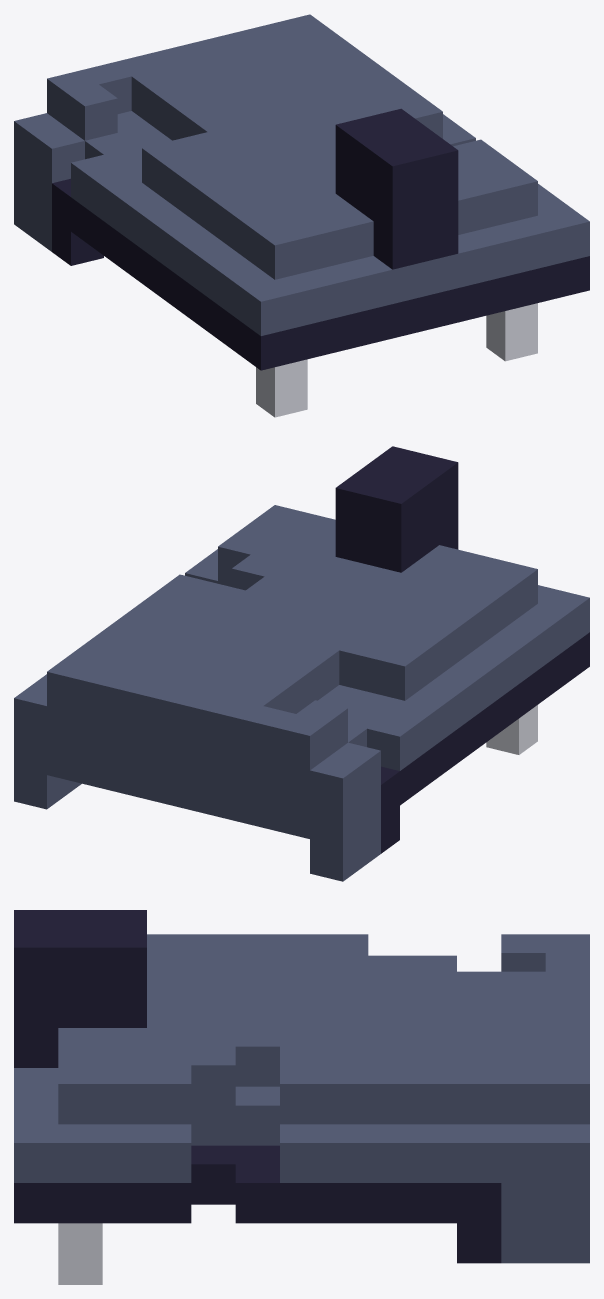
The model's file is Anubis_50-0.obj.
The picture shows the model from 3 angles, top to bottom: view 1: azimuth 30°, elevation 25°; view 2: azimuth 150°, elevation 25°; view 3: azimuth 270°, elevation 25°; orthographic projection. The views are drawn at different scales.
Size of the model in its own units: 1 by 0.7 by 1.3.
1 material, 1 textured.
